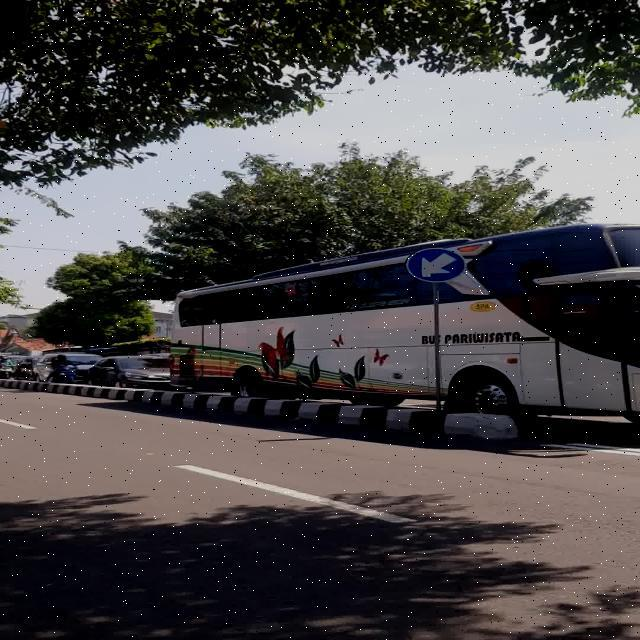Lajur Kiri: (406, 248, 464, 282)
